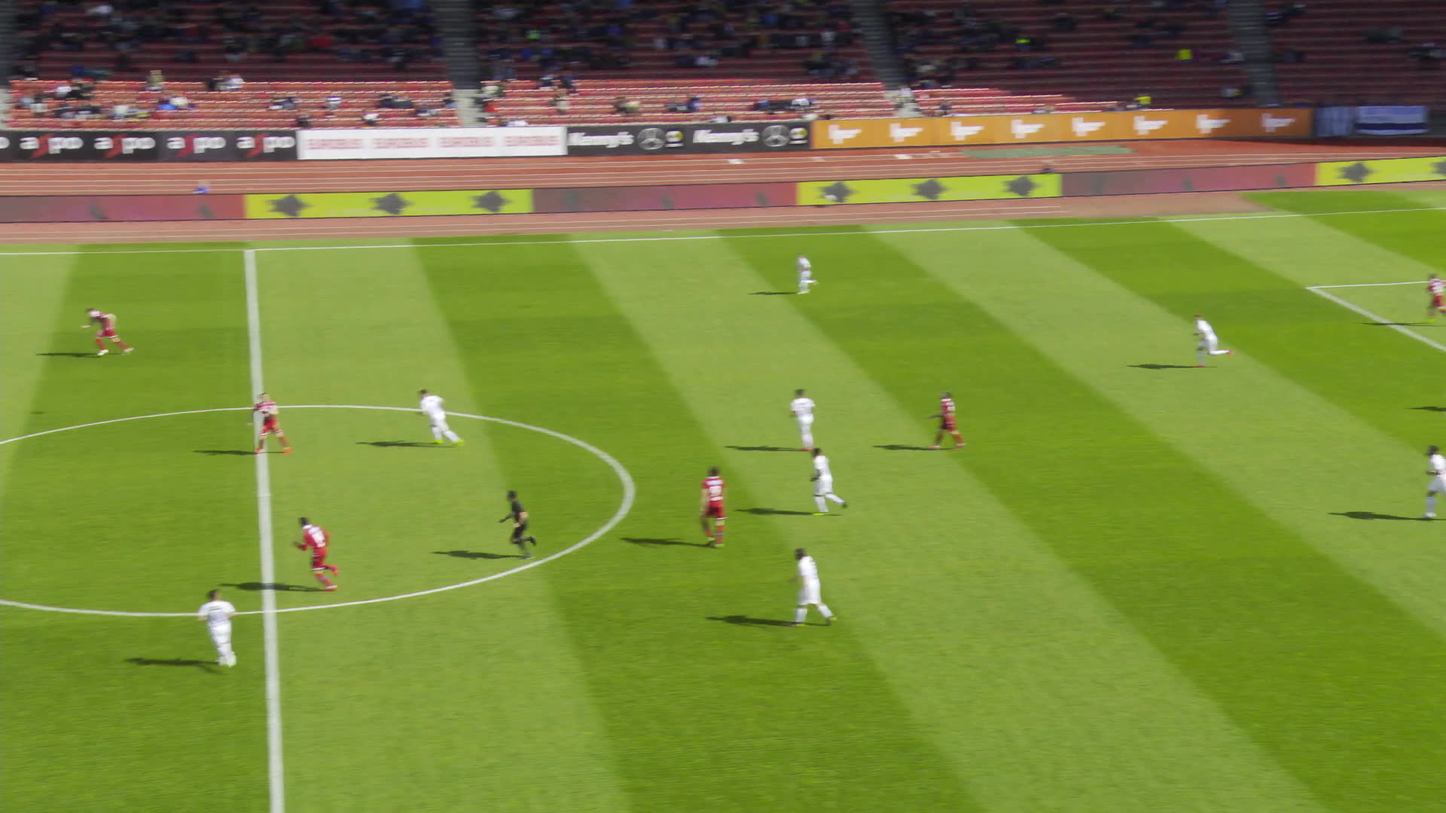player: (283, 515, 334, 594), (1398, 446, 1445, 522), (684, 466, 726, 550), (782, 550, 824, 633), (190, 591, 228, 674), (239, 392, 286, 456), (73, 305, 129, 358), (407, 391, 454, 449), (799, 448, 834, 516), (1181, 315, 1220, 367), (921, 391, 954, 452), (781, 390, 810, 457), (1416, 273, 1445, 318), (787, 255, 808, 295)
referee: (490, 485, 533, 562)
